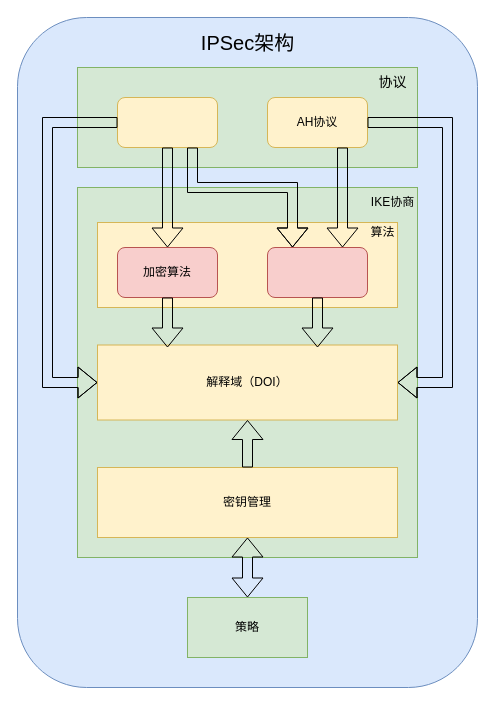
Image size: 495x705. Some labels were removed from this diagram. Here are the shapes that lost their labels. From the top down, the box of each, then its label:
(116, 96, 218, 148): ESP协议
(266, 246, 368, 298): 鉴别算法
